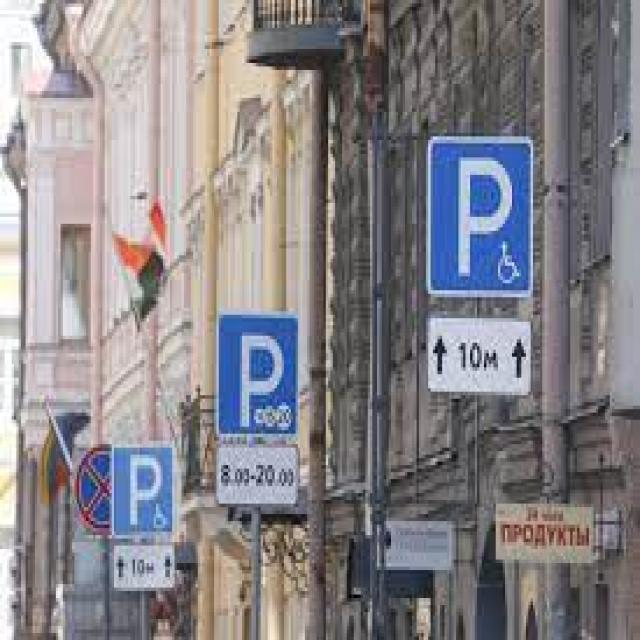no stopping: (74, 444, 114, 535)
parking: (422, 132, 540, 308), (212, 305, 301, 439), (107, 443, 176, 542)
